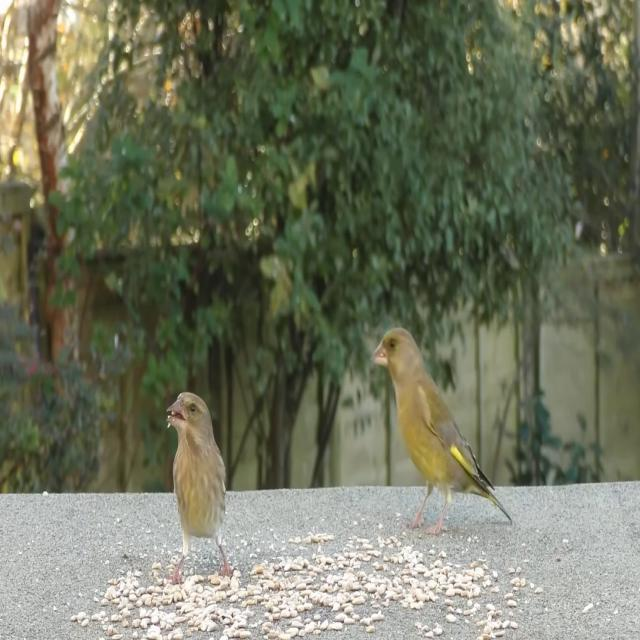beak: (163, 396, 187, 432), (370, 337, 387, 369)
bird: (370, 318, 515, 532), (163, 389, 240, 587)
